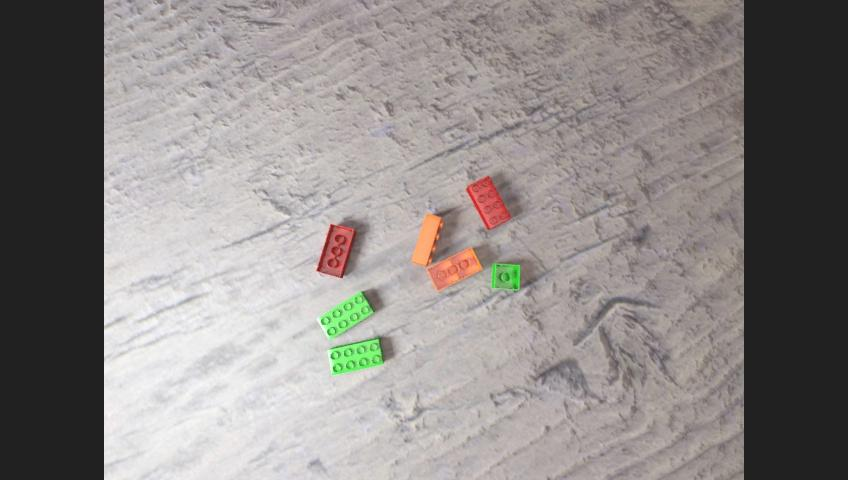2x2_green: (491, 264, 518, 289)
4x2_green: (317, 290, 374, 339), (327, 337, 383, 375)
4x2_orange: (426, 246, 481, 290), (411, 212, 442, 265)
4x2_red: (466, 175, 510, 230), (315, 223, 355, 277)
